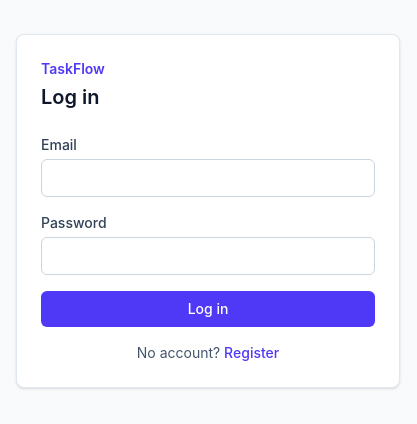
it: shows the server's message when the password is wrong
The image size is (417, 424).
In the field labelled "Email": [208, 178] box [41,159,375,197], type "ali@example.com"
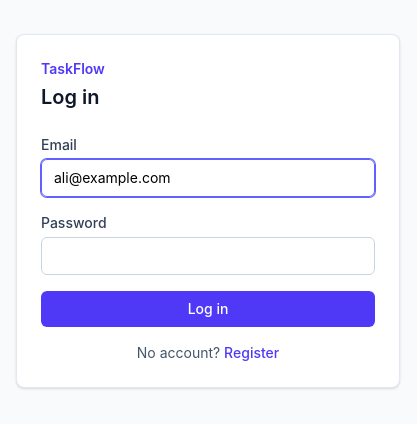
In the password field labelled "Password": [208, 256] box [41,237,375,275], type "wrong-password"
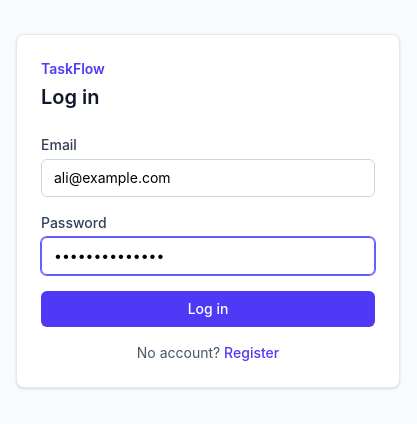
Click the button "Log in": [208, 309] box [41,291,375,327]
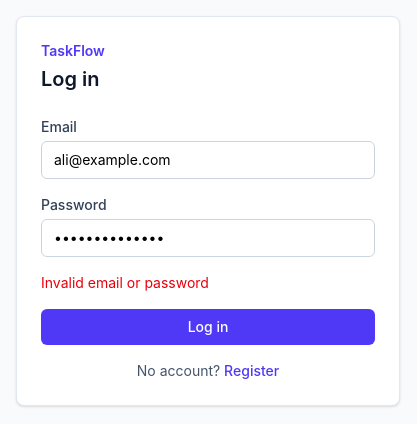
Expected: the text "Invalid email or password" is shown, [41,274,209,291]
